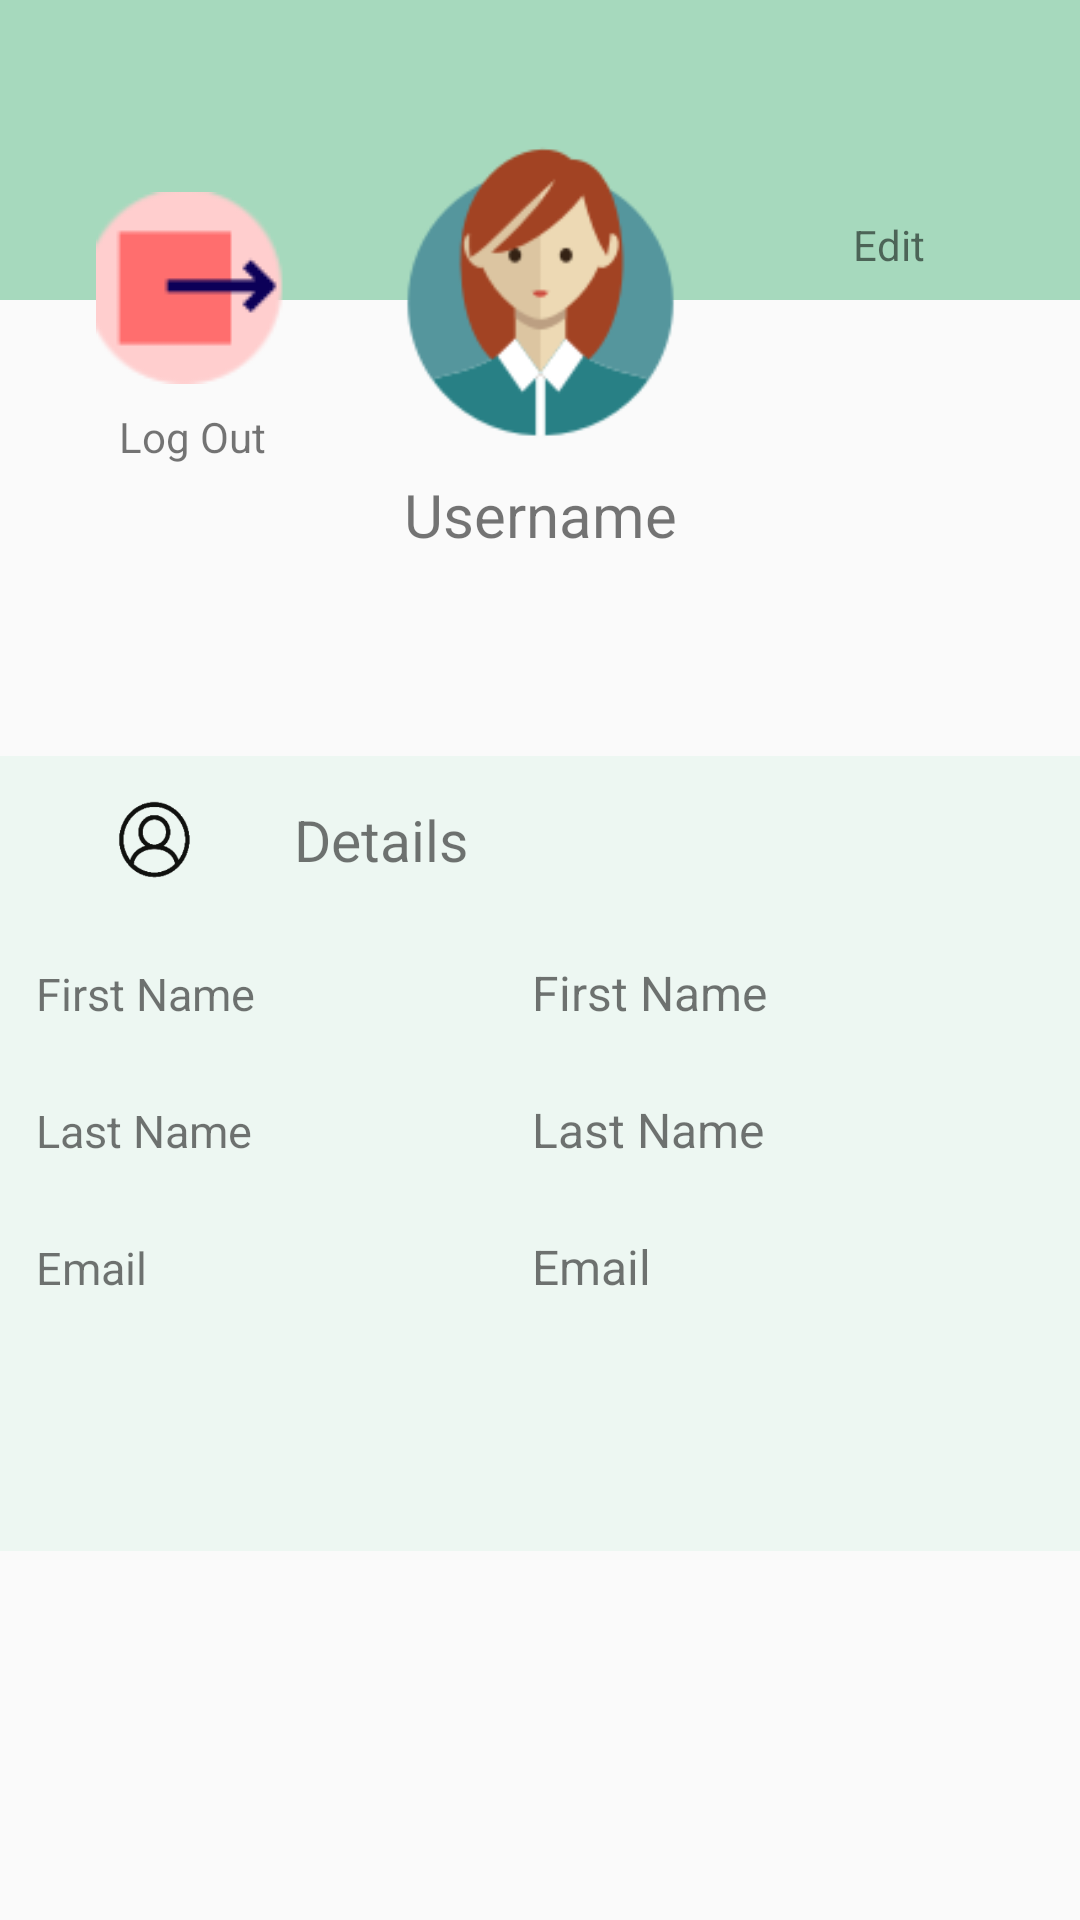

Where icons sit on this 1080w x 1920h app screen, as (x1, y1, x2, y2):
Profile: (119, 802, 190, 878)
